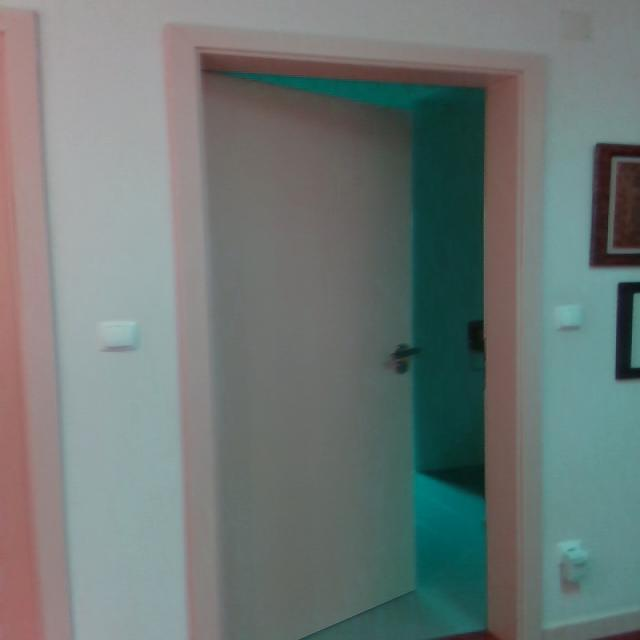door: (155, 18, 555, 640)
